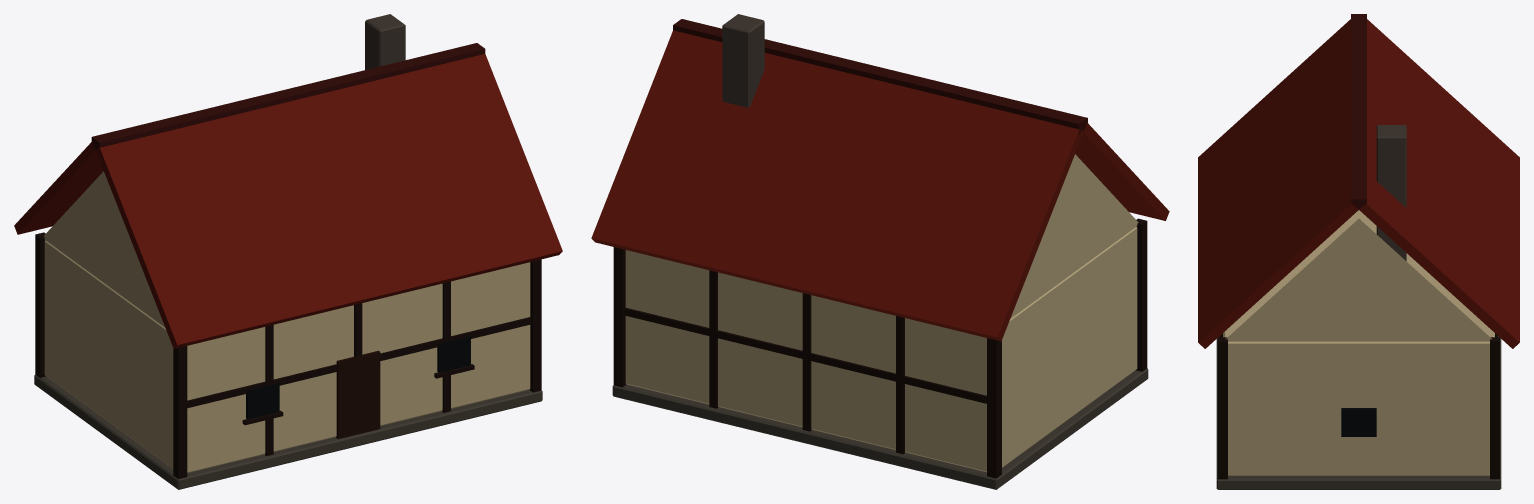
File: house_timber.fbx
3 renders of one model, left to right at view 1: azimuth 30°, elevation 25°; view 2: azimuth 150°, elevation 25°; view 3: azimuth 270°, elevation 25°, orthographic. The views are drawn at different scales.
Visible parts, largest first — view 1: house_timber; view 2: house_timber; view 3: house_timber.
Boxes of the visible parts, box(x1,y1,x2,y2) form: house_timber: box(14, 14, 562, 489); house_timber: box(591, 14, 1169, 489); house_timber: box(1198, 14, 1519, 489).
Size of the model in its own units: 8.7 by 7.15 by 6.38.
